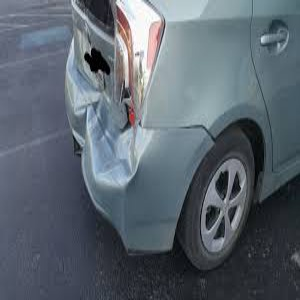bumper: (72, 99, 189, 254)
